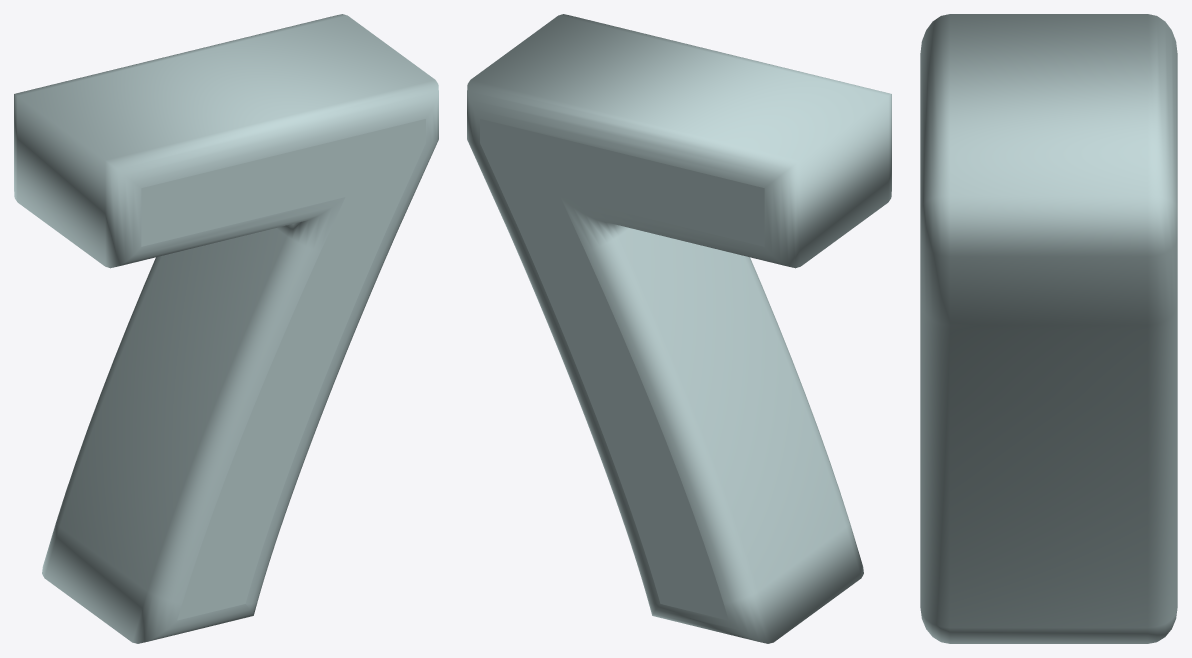
3 views of the same model, side by side, from view 1: azimuth 30°, elevation 25°; view 2: azimuth 150°, elevation 25°; view 3: azimuth 270°, elevation 25° (orthographic). The views are drawn at different scales.
Parts seen in each view (by area): view 1: Text; view 2: Text; view 3: Text.
Boxes of the visible parts, <box> form: Text: <box>14,14,438,643</box>; Text: <box>467,14,891,643</box>; Text: <box>920,14,1177,643</box>.
Size of the model in its own units: 43.45 by 61.46 by 26.
